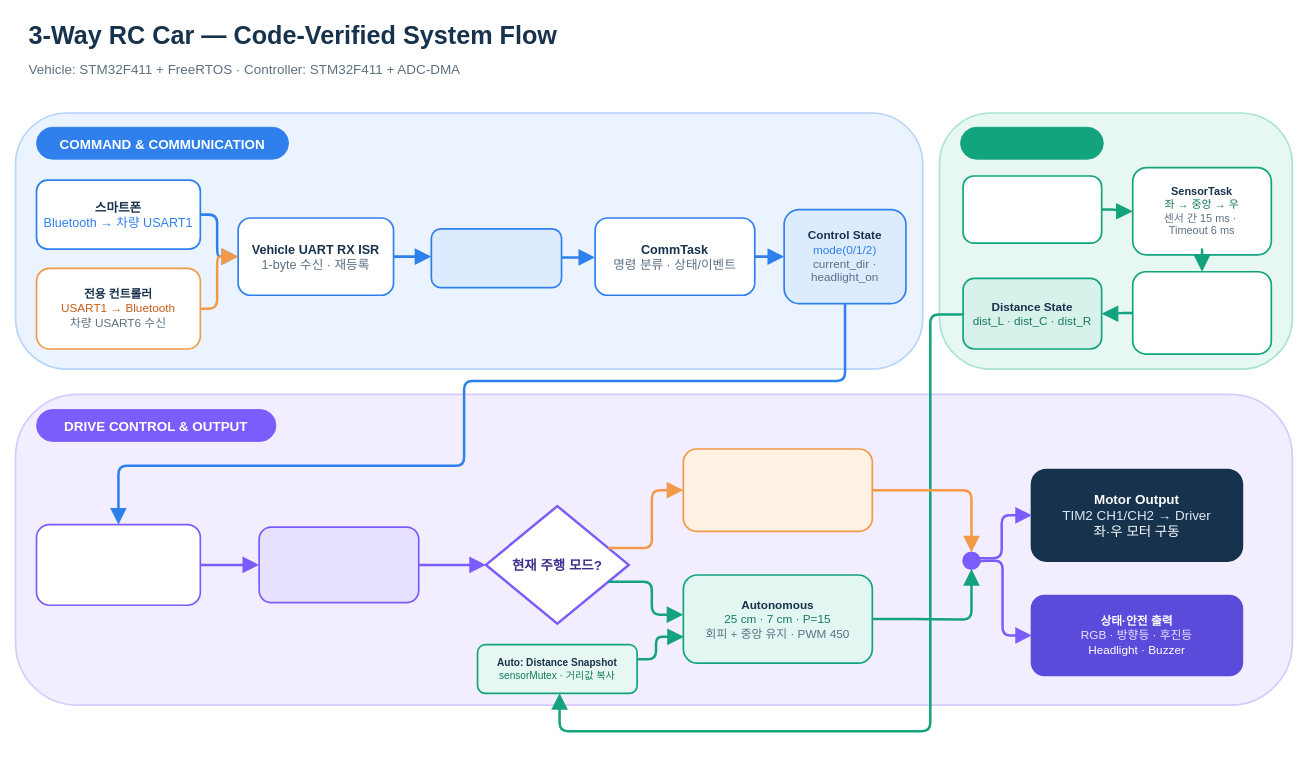
Image size: 1307x759. Some labels were removed from this diagram. Here are the shapes that lost their labels. From the top down, the centre of each, then its label:
At (1031,142): "SENSING".
At (1032,209): "초음파 × 3 Left · Center · Right".
At (496,258): "btQueue 16 × 1-byte".
At (1201,312): "거리 필터 무효값은 직전값 유지 30% 초과 즉시 · 그 외 평균".
At (777,490): "Manual / Controller f · b · l · r · s PWM 600".
At (118,564): "State Snapshot stateMutex mode · current_dir".
At (338,564): "MotorTask 20 ms 제어 주기".
